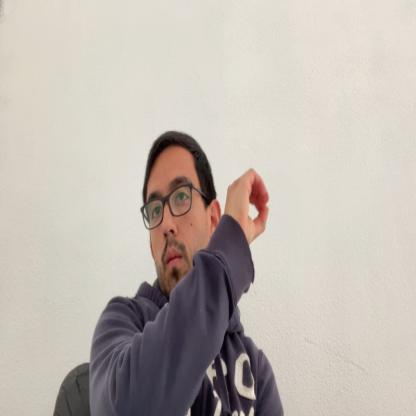O: (228, 170, 269, 248)
